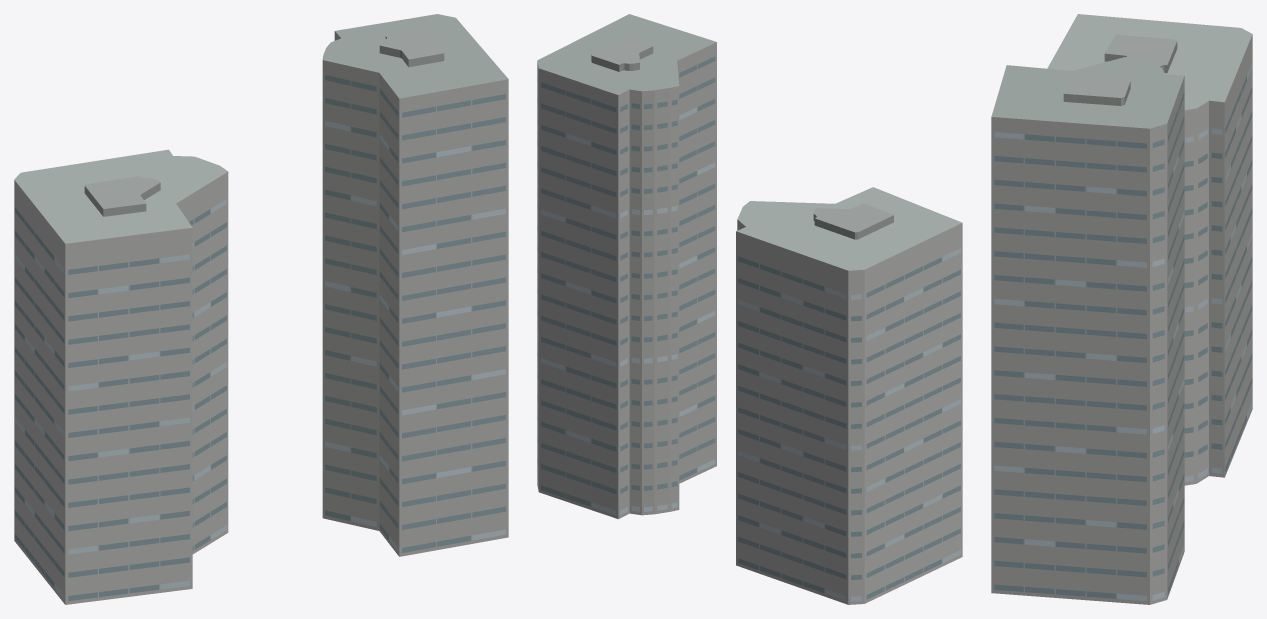
Rendered from fallback-hyperion-ii-officetels.glb.
3 views of the same model, side by side, from view 1: azimuth 30°, elevation 25°; view 2: azimuth 150°, elevation 25°; view 3: azimuth 270°, elevation 25° (orthographic). The views are drawn at different scales.
Parts seen in each view (by area): view 1: fallback-hyperion-ii-officetels; view 2: fallback-hyperion-ii-officetels; view 3: fallback-hyperion-ii-officetels.
Boxes of the visible parts, x1=… form: fallback-hyperion-ii-officetels: x1=14, y1=14, x2=508, y2=604; fallback-hyperion-ii-officetels: x1=537, y1=14, x2=962, y2=604; fallback-hyperion-ii-officetels: x1=991, y1=14, x2=1252, y2=604.
Bounding box in the file's own units: 137 × 144 × 70.39.
